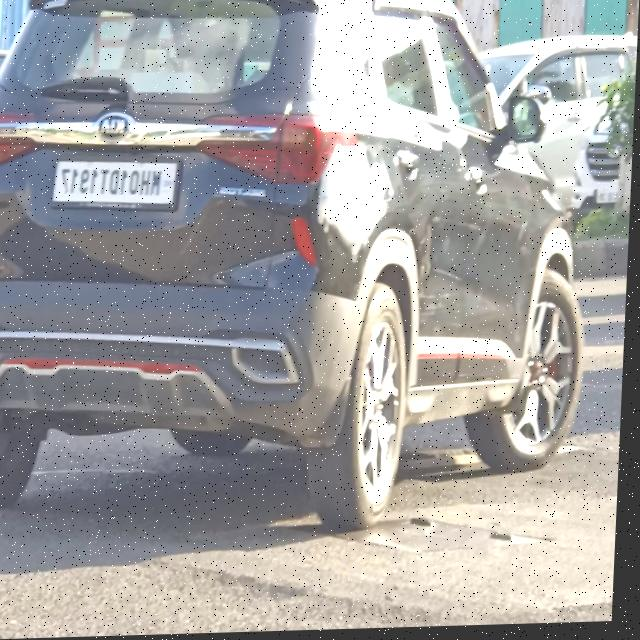plate: (49, 152, 187, 224)
